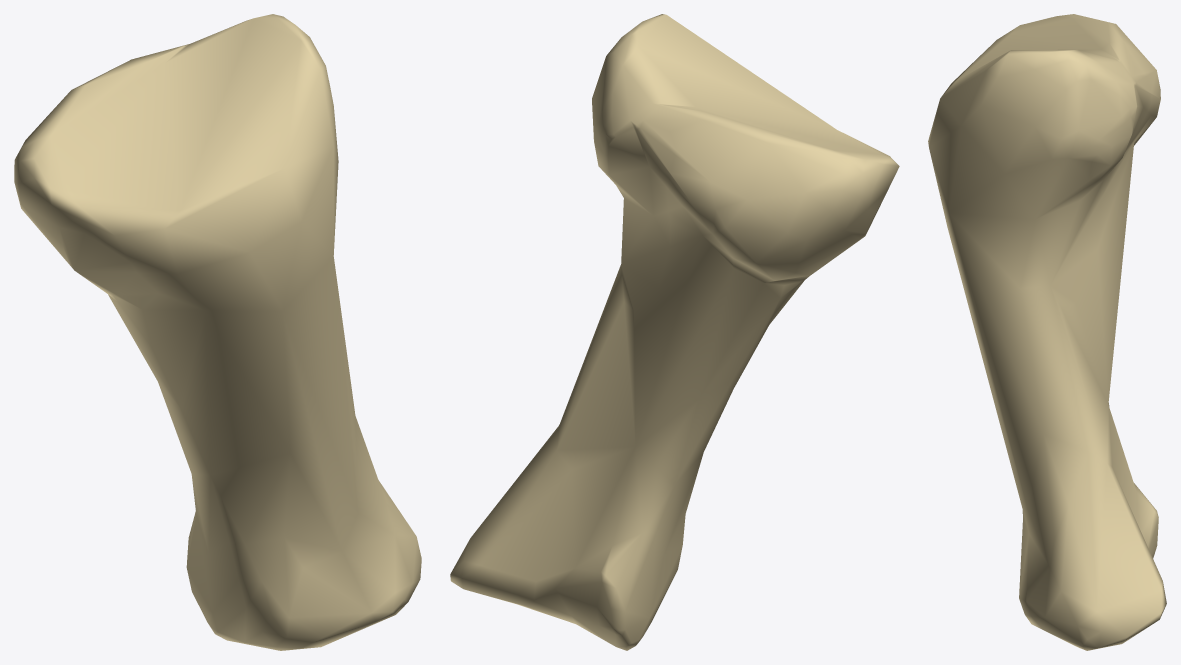
3 views of the same model, side by side, from view 1: azimuth 30°, elevation 25°; view 2: azimuth 150°, elevation 25°; view 3: azimuth 270°, elevation 25° (orthographic). The views are drawn at different scales.
Parts seen in each view (by area): view 1: 左侧第五趾近节趾骨; view 2: 左侧第五趾近节趾骨; view 3: 左侧第五趾近节趾骨.
Boxes of the visible parts, <box> form: 左侧第五趾近节趾骨: <box>14,14,421,650</box>; 左侧第五趾近节趾骨: <box>450,14,899,650</box>; 左侧第五趾近节趾骨: <box>928,14,1166,650</box>.
Bounding box in the file's own units: 0.027 × 0.0395 × 0.0154.
